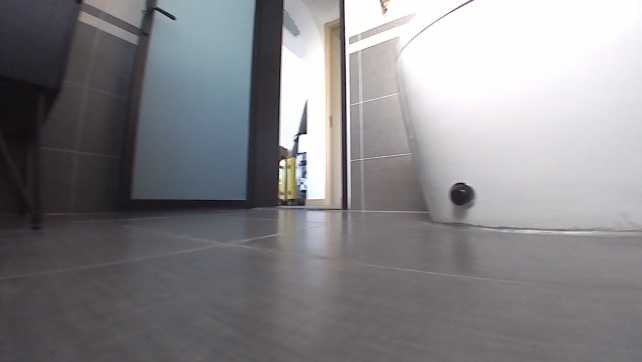door_anno: (108, 0, 286, 214)
toilet: (390, 0, 641, 234)
